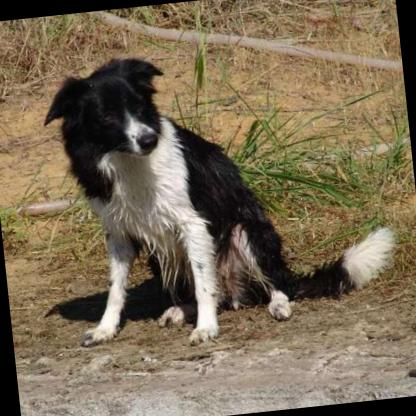Border_collie: (34, 30, 402, 356)
